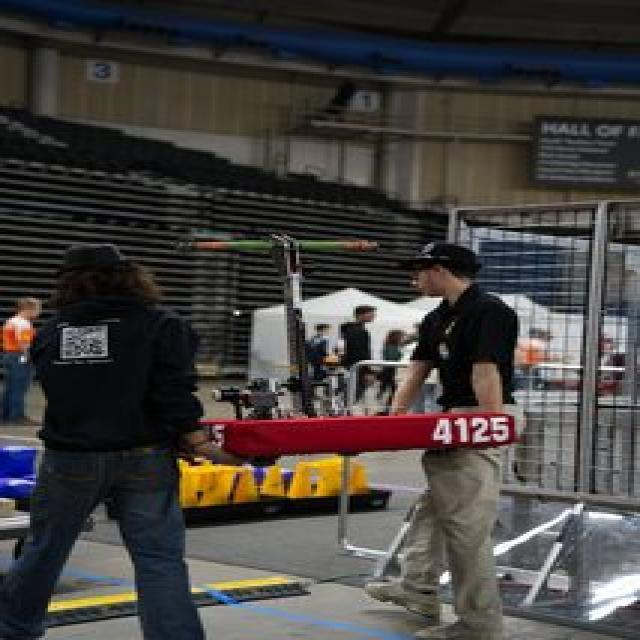robot: (180, 226, 542, 459)
